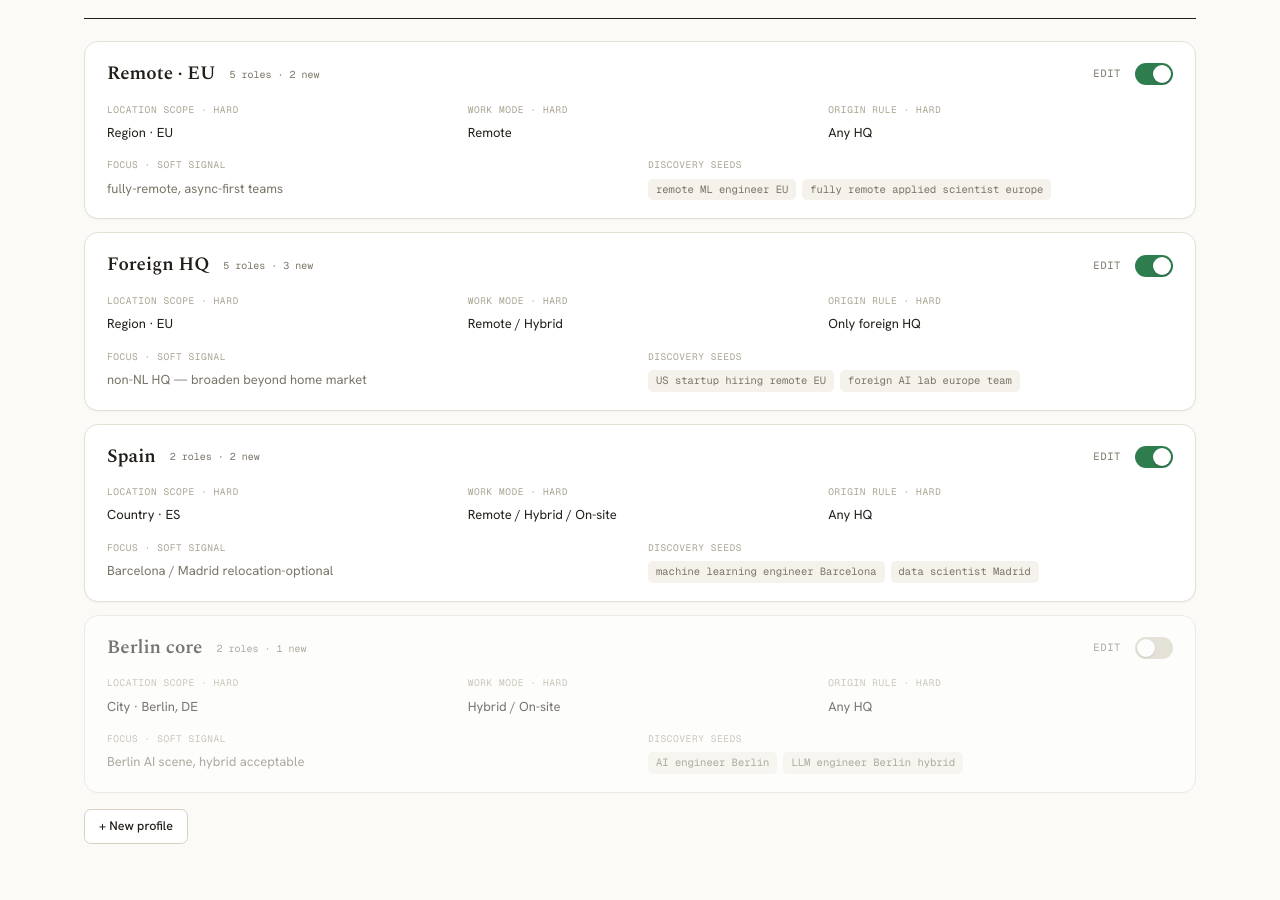
Test: ProfilesView › + New profile adds an editable card
The width and height of the screenshot is (1280, 900).
(page scrolled)
Expected: the text "Save profile" is not shown
Click the button "+ New profile" at (136, 826), box [84,809,188,844]
(page scrolled)
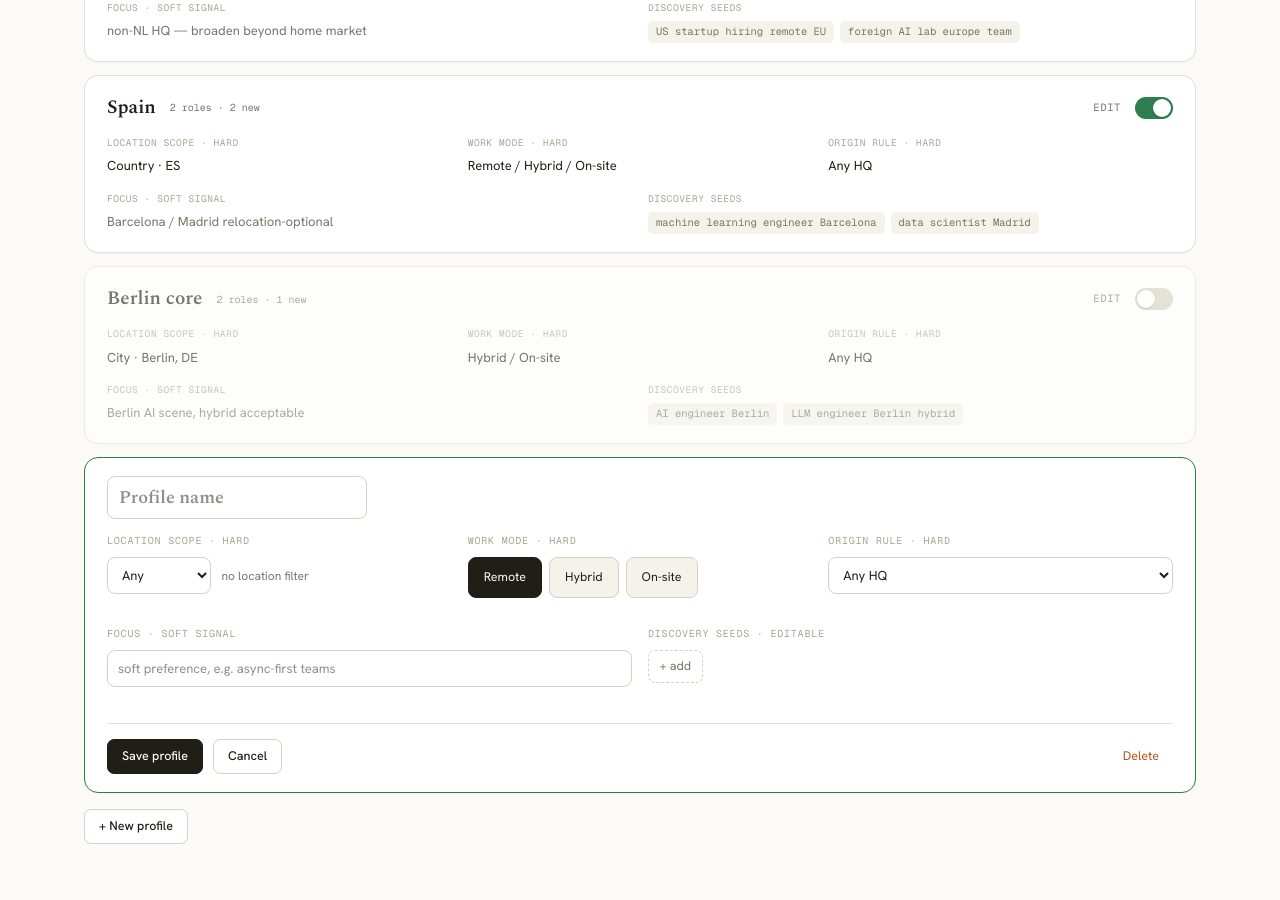
Expected: the button "Save profile" is shown, [107,739,203,774]
